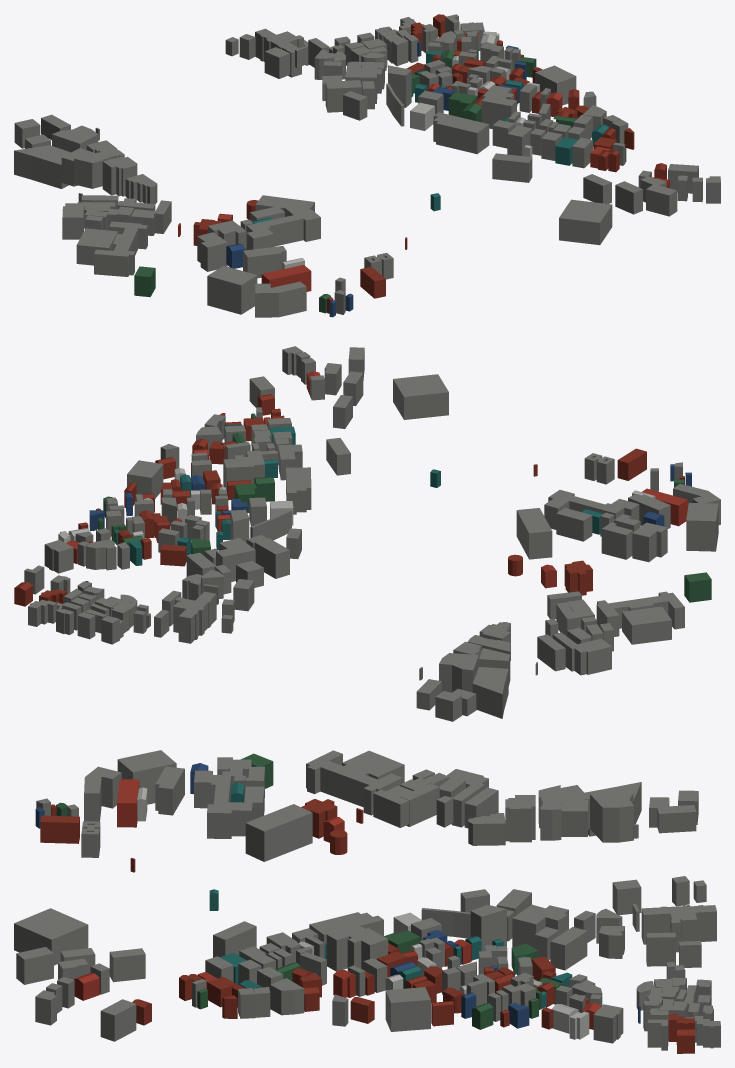
File: near-16-54722-29739.c655bab6.glb
3 views of the same model, one above another, from view 1: azimuth 30°, elevation 25°; view 2: azimuth 150°, elevation 25°; view 3: azimuth 270°, elevation 25° (orthographic). The views are drawn at different scales.
Bounding box in the file's own units: 618 × 87.6 × 611.
